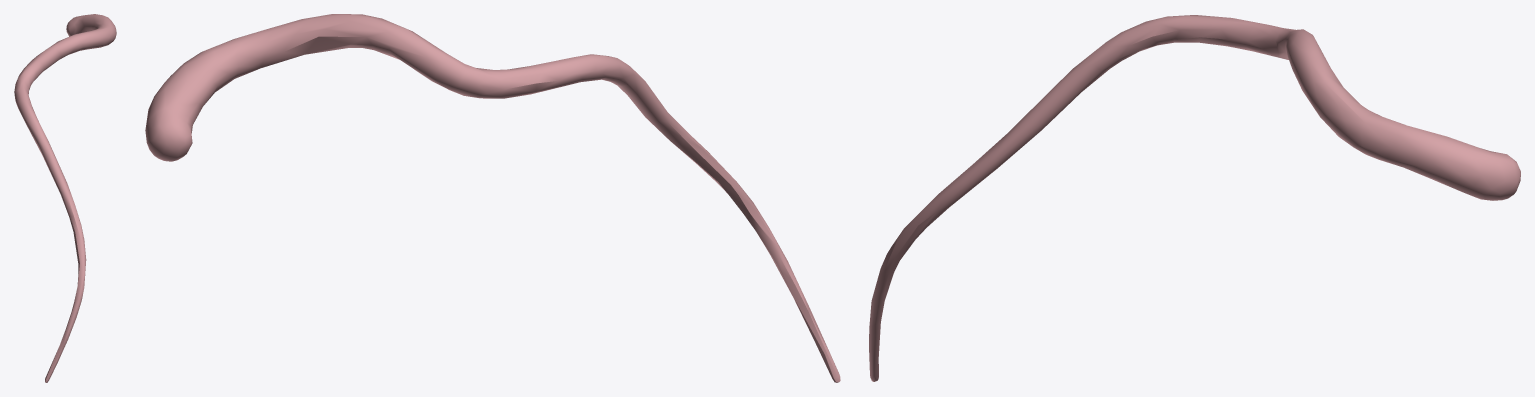
File: fma71886_fj5819.glb
3 renders of one model, left to right at view 1: azimuth 30°, elevation 25°; view 2: azimuth 150°, elevation 25°; view 3: azimuth 270°, elevation 25°, orthographic. The views are drawn at different scales.
Visible parts, largest first — view 1: FMA71886_FJ5819; view 2: FMA71886_FJ5819; view 3: FMA71886_FJ5819.
Boxes of the visible parts, <box> form: FMA71886_FJ5819: <box>14,14,116,382</box>; FMA71886_FJ5819: <box>145,14,840,382</box>; FMA71886_FJ5819: <box>869,15,1520,381</box>.
Size of the model in its own units: 0.0303 by 0.033 by 0.0415.
